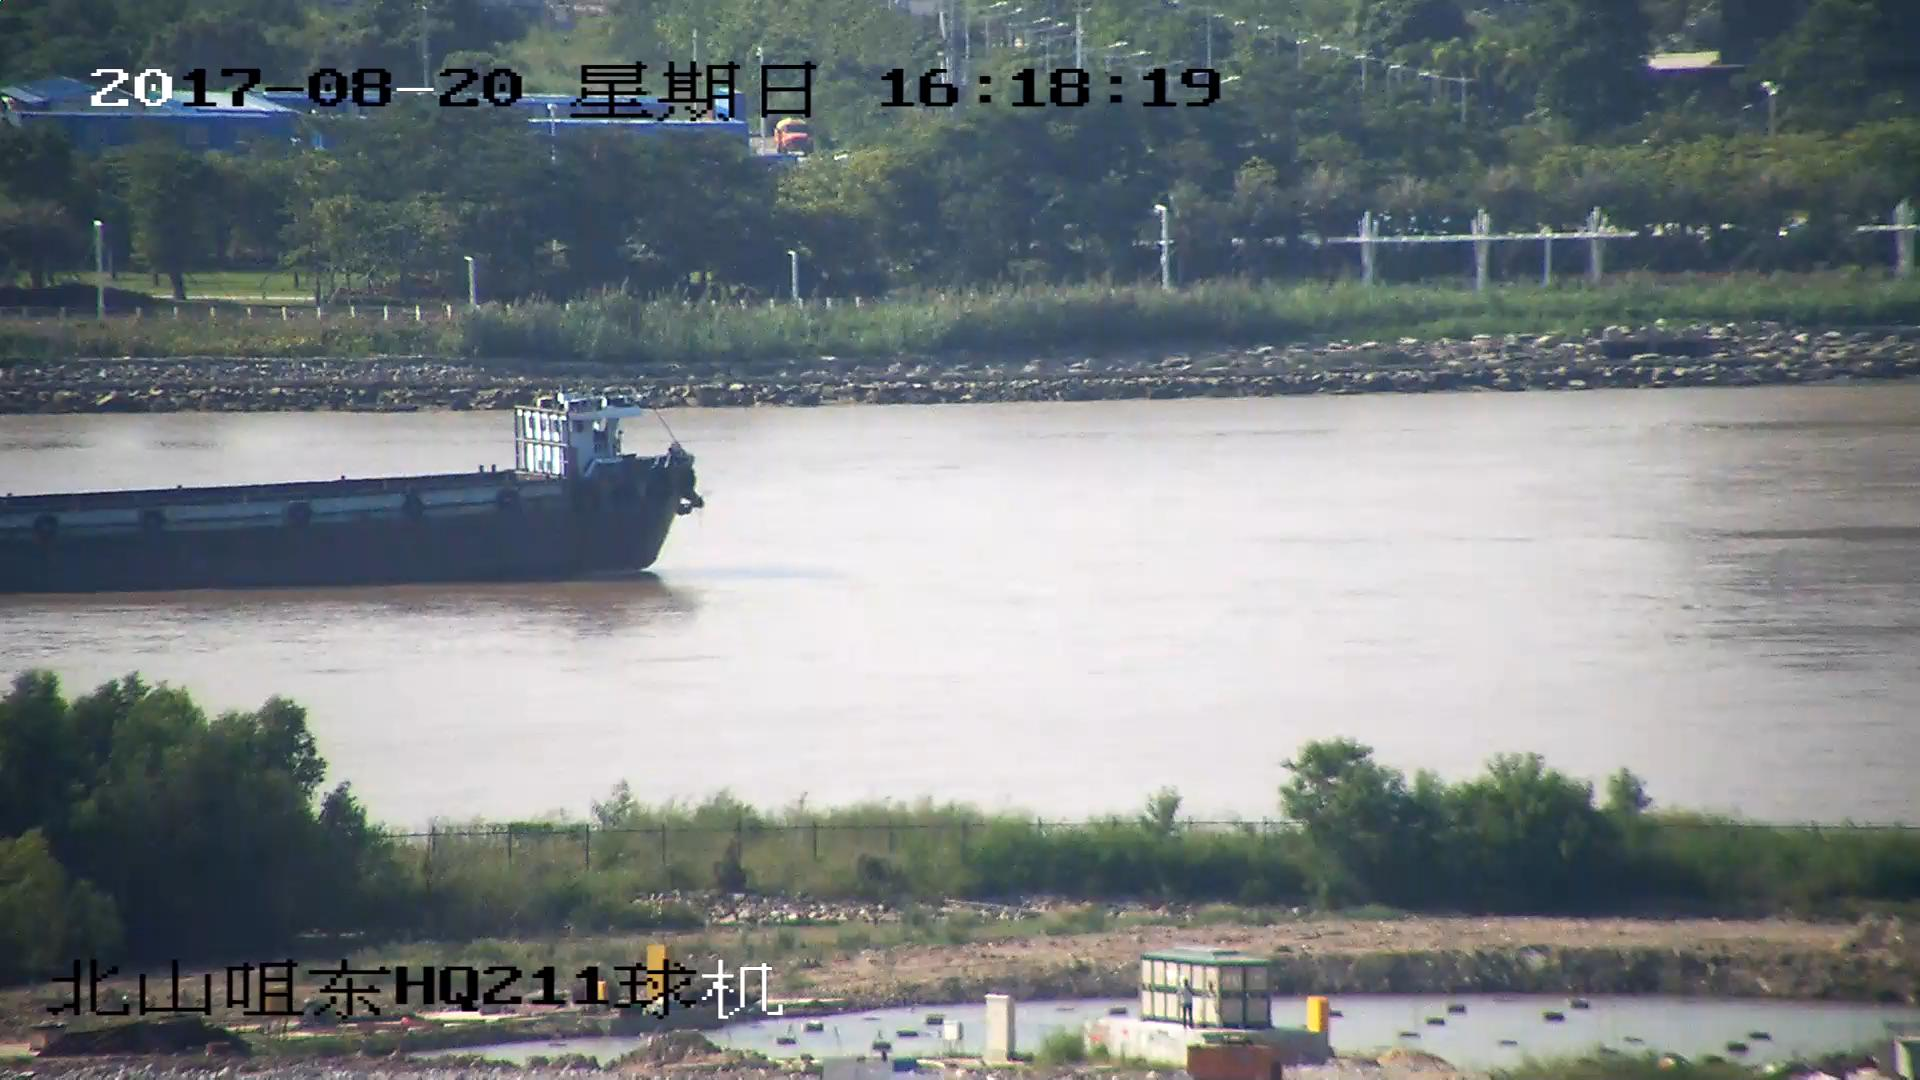general cargo ship: (1, 390, 693, 586)
